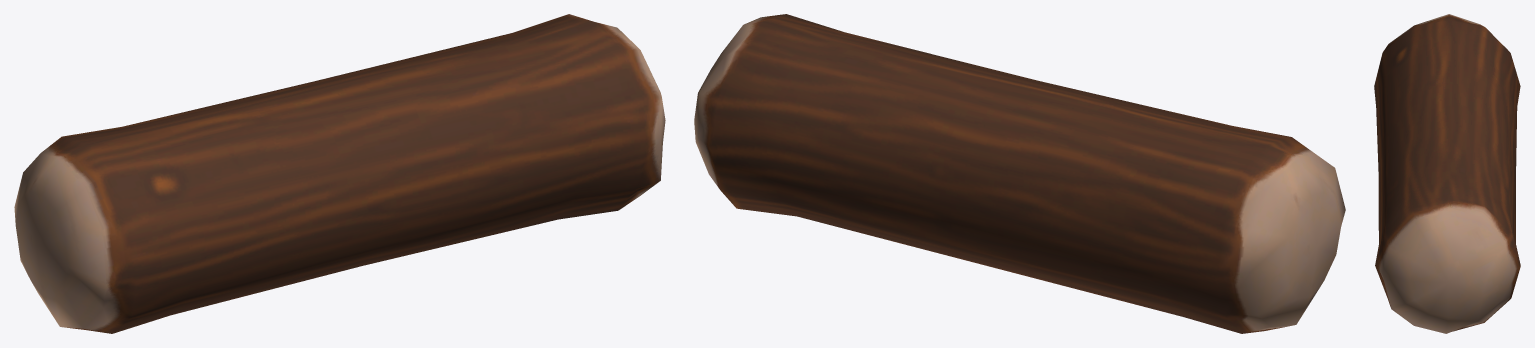
The model's file is log.fbx.
3 renders of one model, left to right at view 1: azimuth 30°, elevation 25°; view 2: azimuth 150°, elevation 25°; view 3: azimuth 270°, elevation 25°, orthographic. The views are drawn at different scales.
Parts seen in each view (by area): view 1: log; view 2: log; view 3: log.
Boxes of the visible parts, left/top/right/bottom form: log: left=14, top=14, right=665, bottom=333; log: left=694, top=14, right=1345, bottom=333; log: left=1374, top=14, right=1520, bottom=333.
Size of the model in its own units: 7.66 by 2.24 by 2.2.
Materials: 1 (1 with a texture image).
